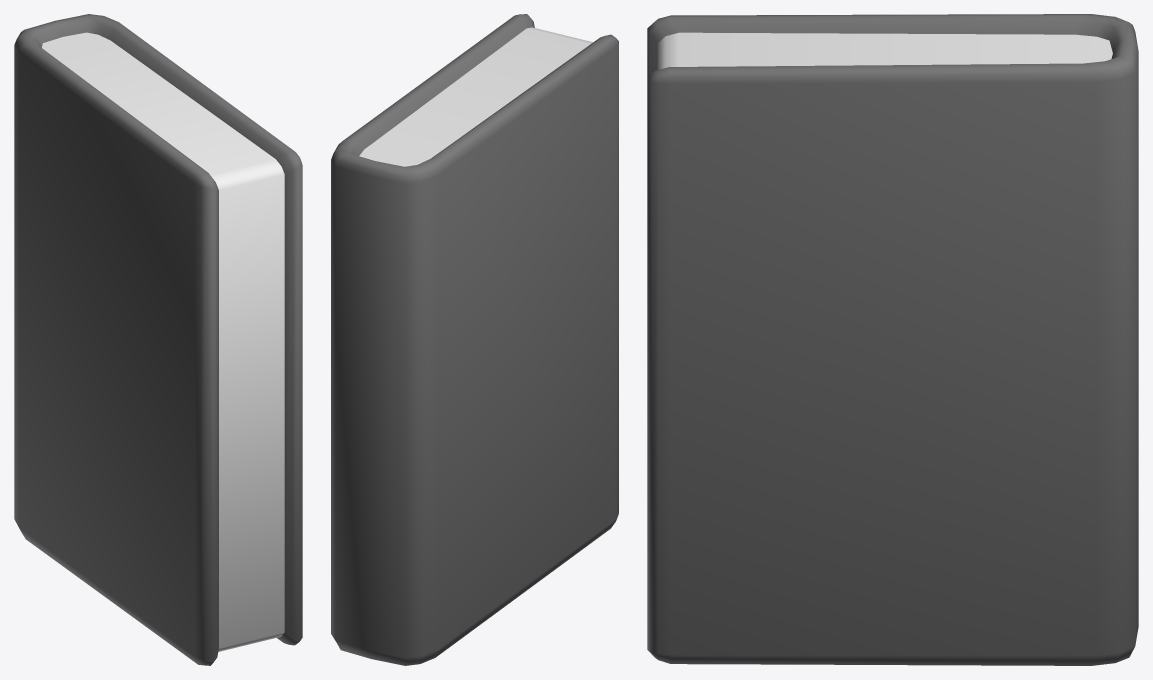
The model's file is Book07.fbx.
The picture shows the model from 3 angles, left to right: view 1: azimuth 30°, elevation 25°; view 2: azimuth 150°, elevation 25°; view 3: azimuth 270°, elevation 25°; orthographic projection. The views are drawn at different scales.
Visible parts, largest first — view 1: Book07; view 2: Book07; view 3: Book07.
Part boxes in pixels (<box>): Book07: <box>14,14,302,665</box>; Book07: <box>331,14,618,665</box>; Book07: <box>647,14,1138,665</box>.
Bounding box in the file's own units: 0.0443 × 0.1506 × 0.2031.
